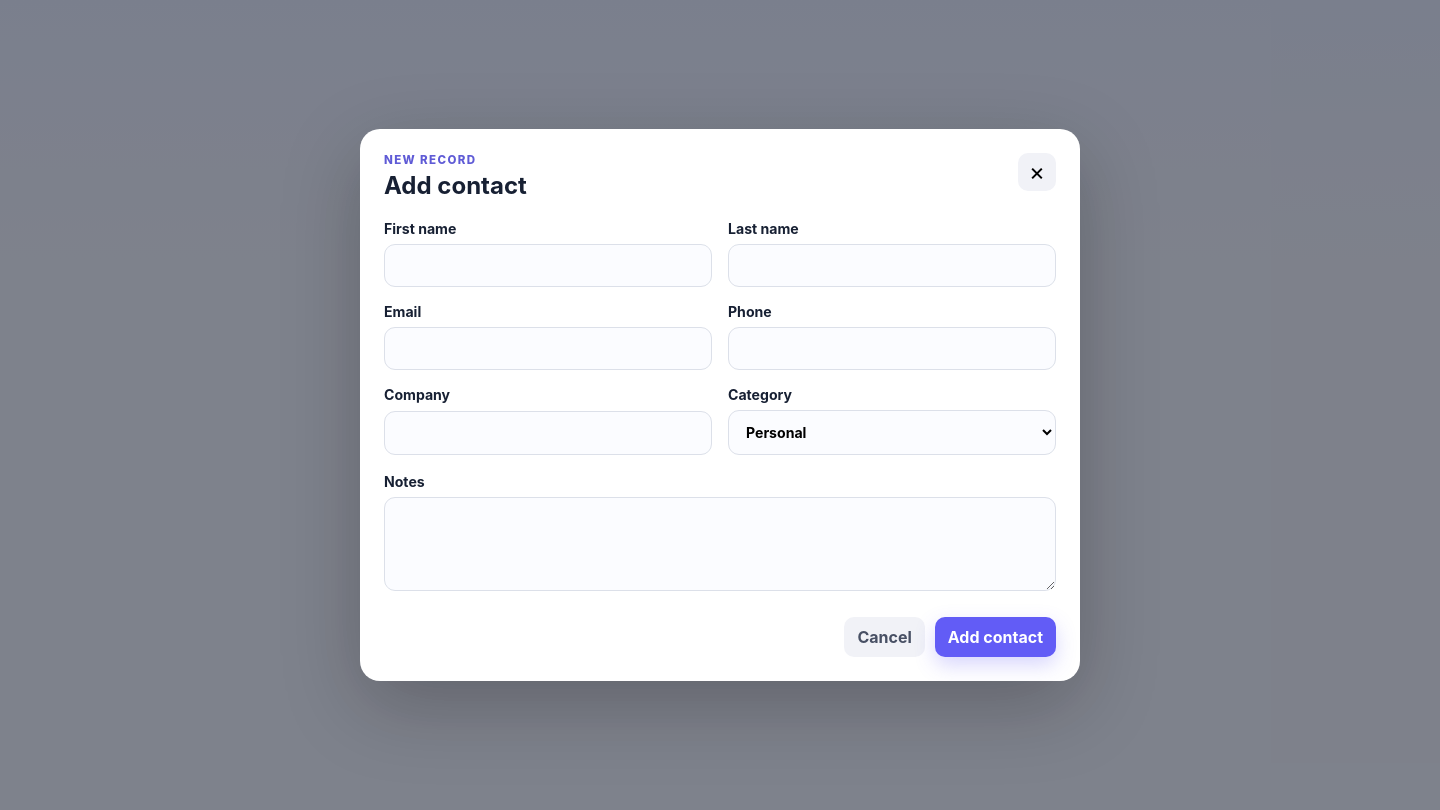
Test: ContactForm › shows required field errors
This screenshot has width=1440, height=810.
What coordinates should you click on to do the following:
click the button "Add contact"
I would click on:
 (995, 637)
Its box is [935,617,1056,657].
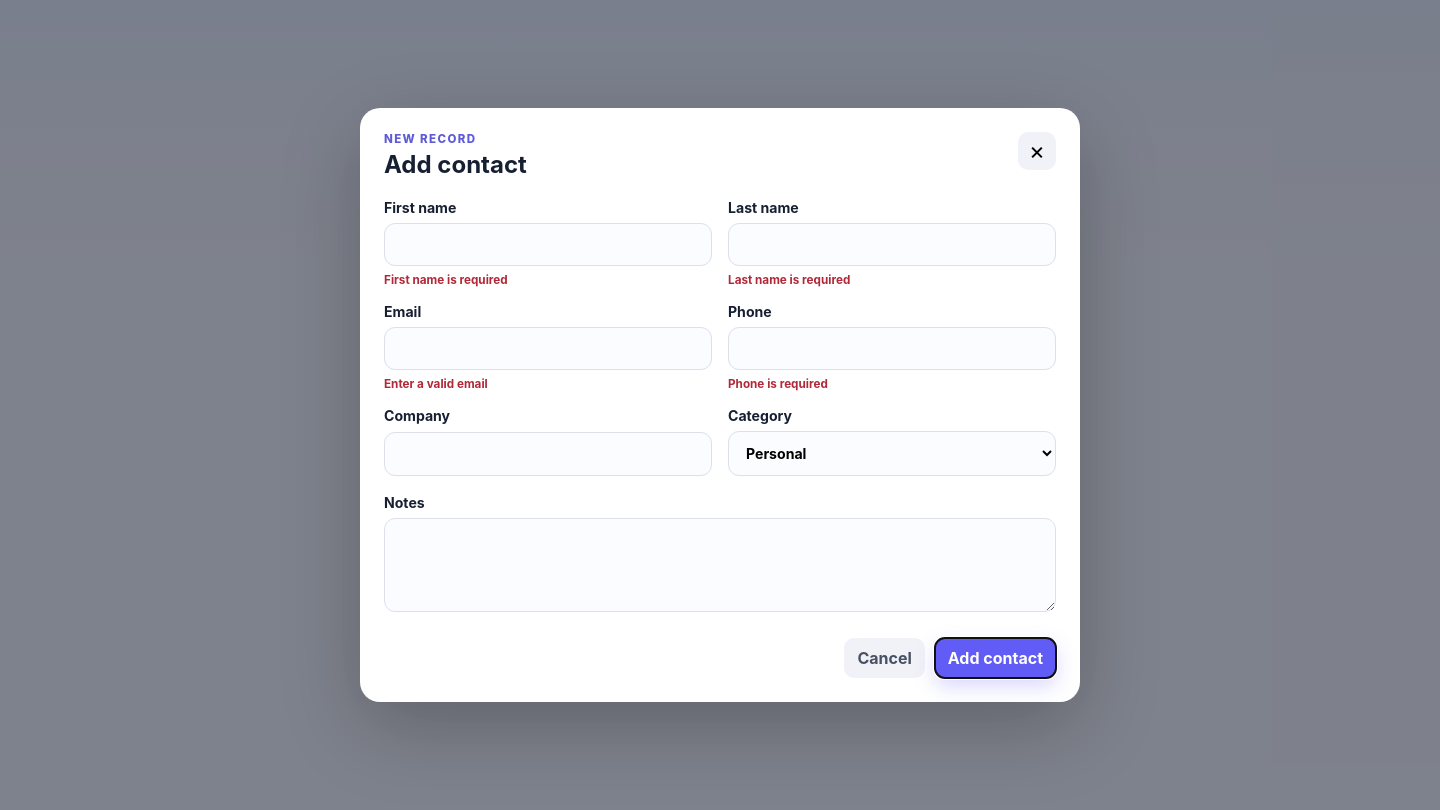
Expected: the text "First name is required" is shown, [384,273,508,287]
Expected: the text "Last name is required" is shown, [728,273,850,287]
Expected: the text "Enter a valid email" is shown, [384,377,488,391]
